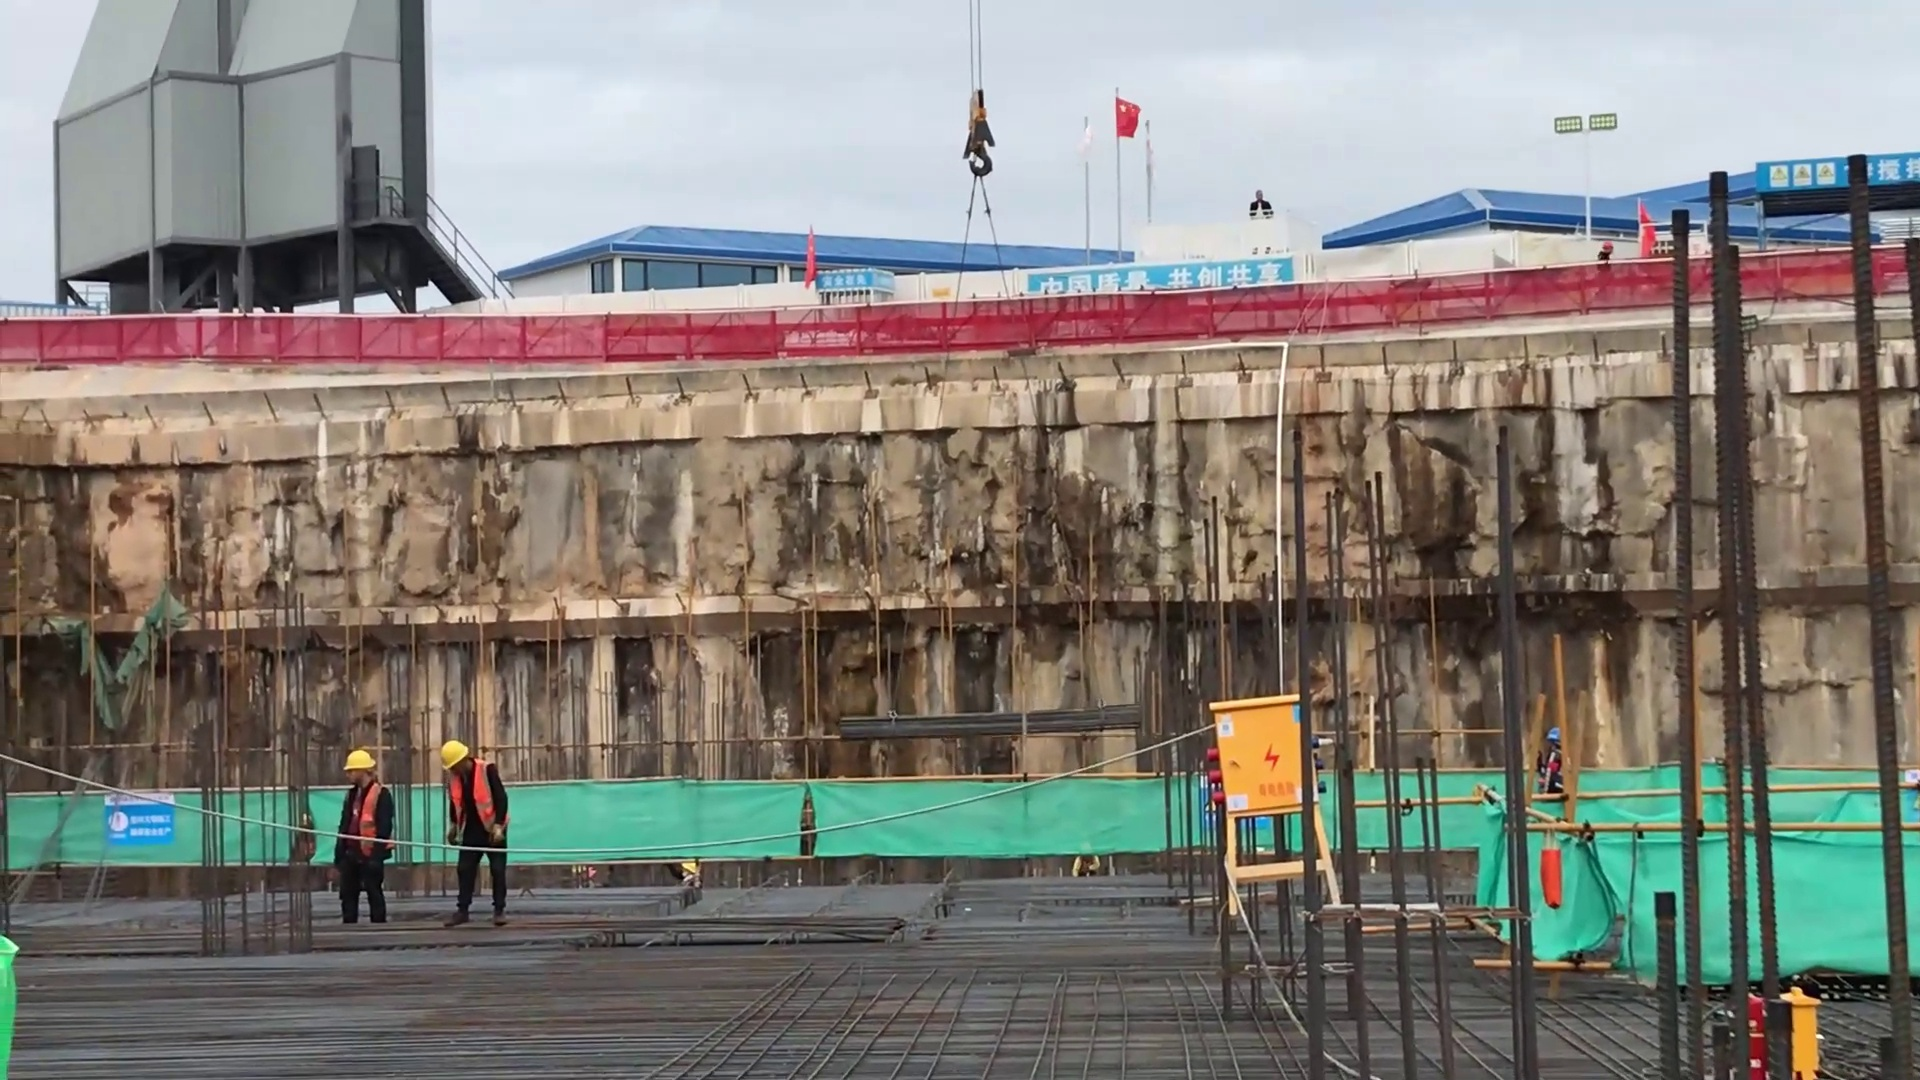ebox: (1204, 690, 1352, 932)
fence: (7, 278, 1262, 403), (1251, 257, 1710, 321), (1748, 235, 1856, 316)
helmet: (432, 735, 477, 773), (342, 746, 382, 774), (1539, 726, 1565, 742), (1600, 238, 1615, 250)
hook: (956, 88, 1021, 189)
person: (433, 738, 527, 942), (325, 749, 401, 929), (1239, 183, 1278, 223), (1596, 234, 1615, 263)
slogan: (1726, 113, 1919, 226), (95, 769, 220, 871), (1023, 259, 1298, 293), (803, 249, 936, 301)
vest: (336, 777, 395, 865), (447, 760, 512, 839)
